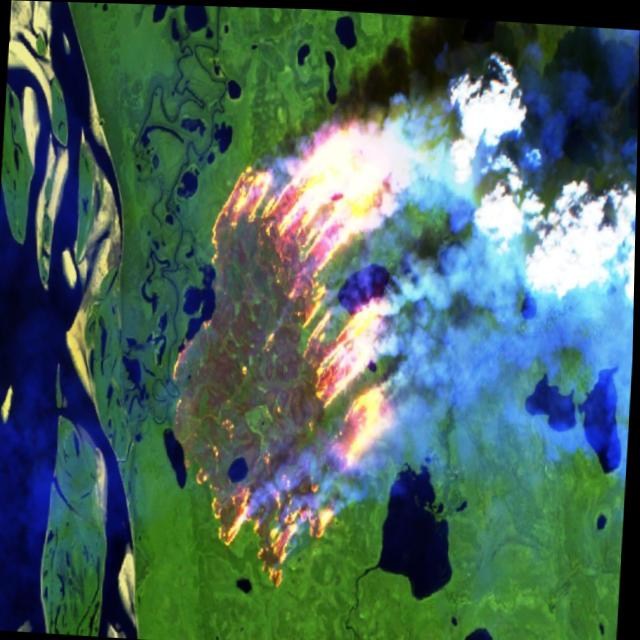fire: (151, 152, 411, 604)
